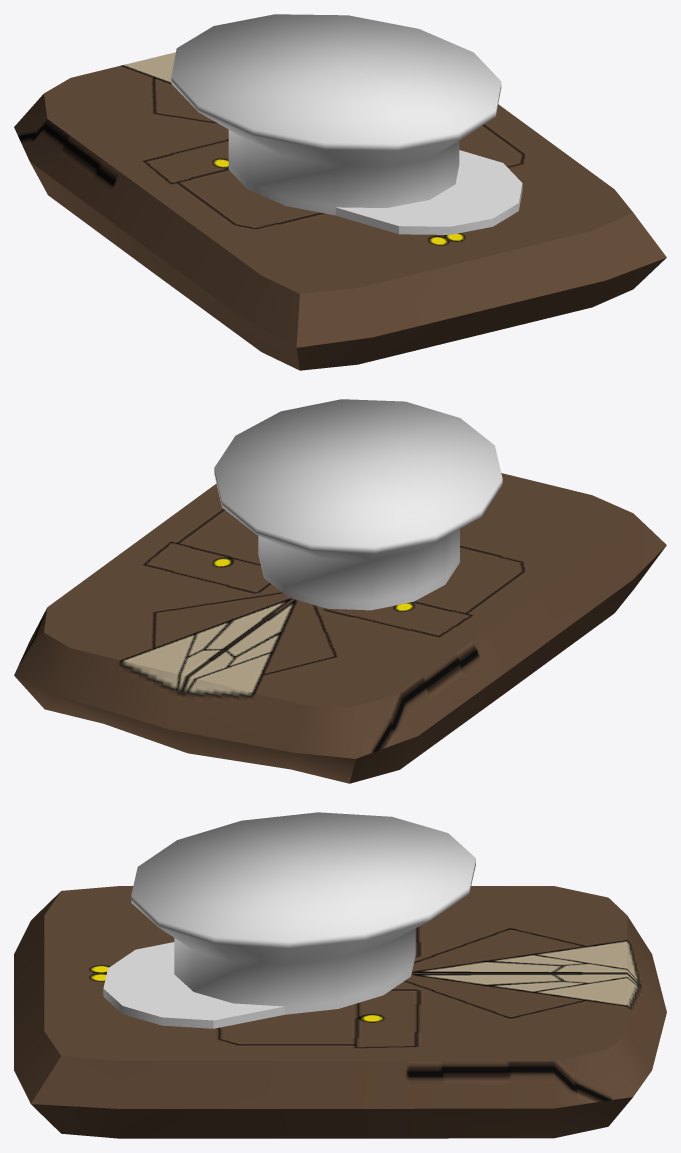
File: ArmyUniformPacked.FBX
3 views of the same model, one above another, from view 1: azimuth 30°, elevation 25°; view 2: azimuth 150°, elevation 25°; view 3: azimuth 270°, elevation 25° (orthographic).
Visible parts, largest first — view 1: Uniform, Hat; view 2: Uniform, Hat; view 3: Uniform, Hat.
Part boxes in pixels (x1=…): Uniform: x1=14, y1=52, x2=666, y2=370; Hat: x1=171, y1=14, x2=522, y2=234; Uniform: x1=14, y1=473, x2=666, y2=783; Hat: x1=214, y1=399, x2=502, y2=610; Uniform: x1=14, y1=886, x2=666, y2=1138; Hat: x1=103, y1=812, x2=475, y2=1028.
Size of the model in its own units: 12.97 by 5.34 by 18.52.
